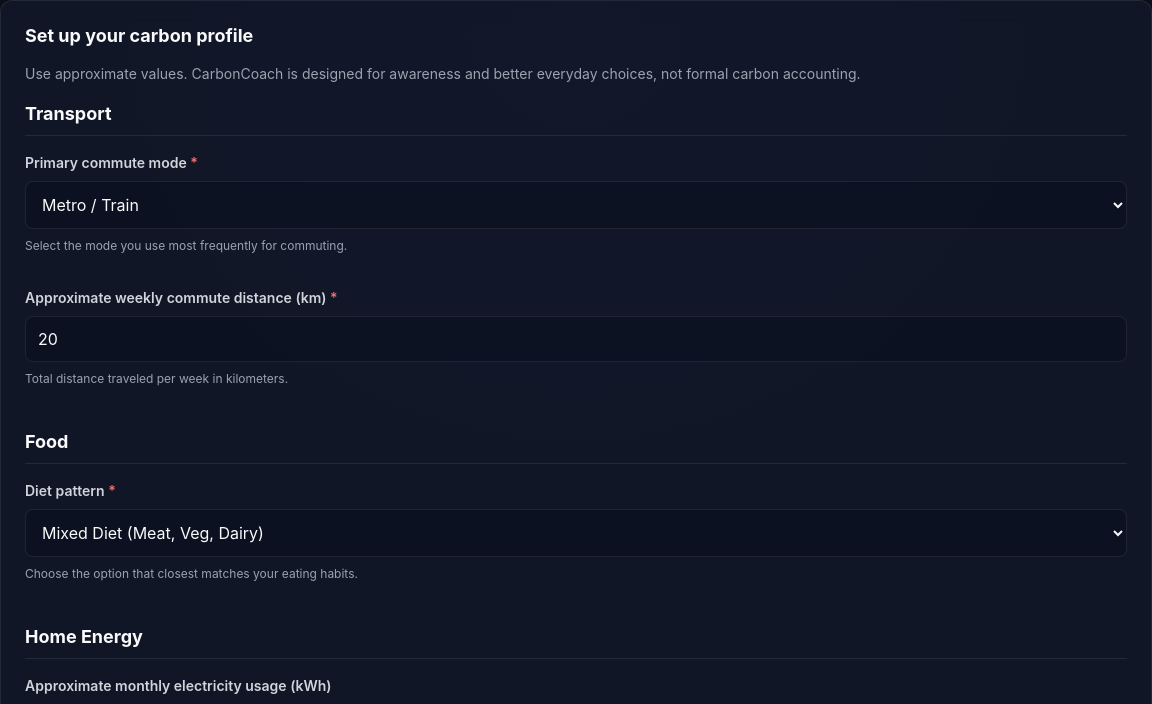
Test: ProfileOnboarding Component › reset button restores default values
Replace the text in the number field labelled "Approximate weekly commute distance (km)" with "150" at coordinates (576, 339), box [25,316,1127,362]
(page scrolled)
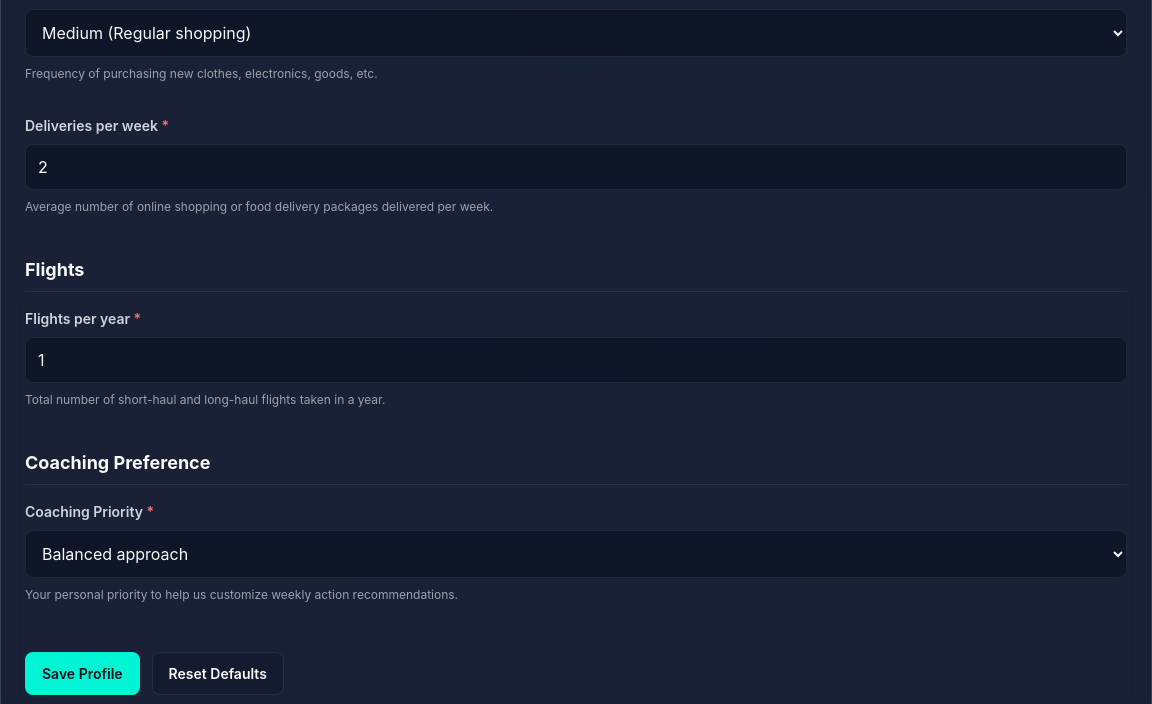
Click the button "Reset Defaults" at coordinates (218, 673), box [152,652,284,695]
(page scrolled)
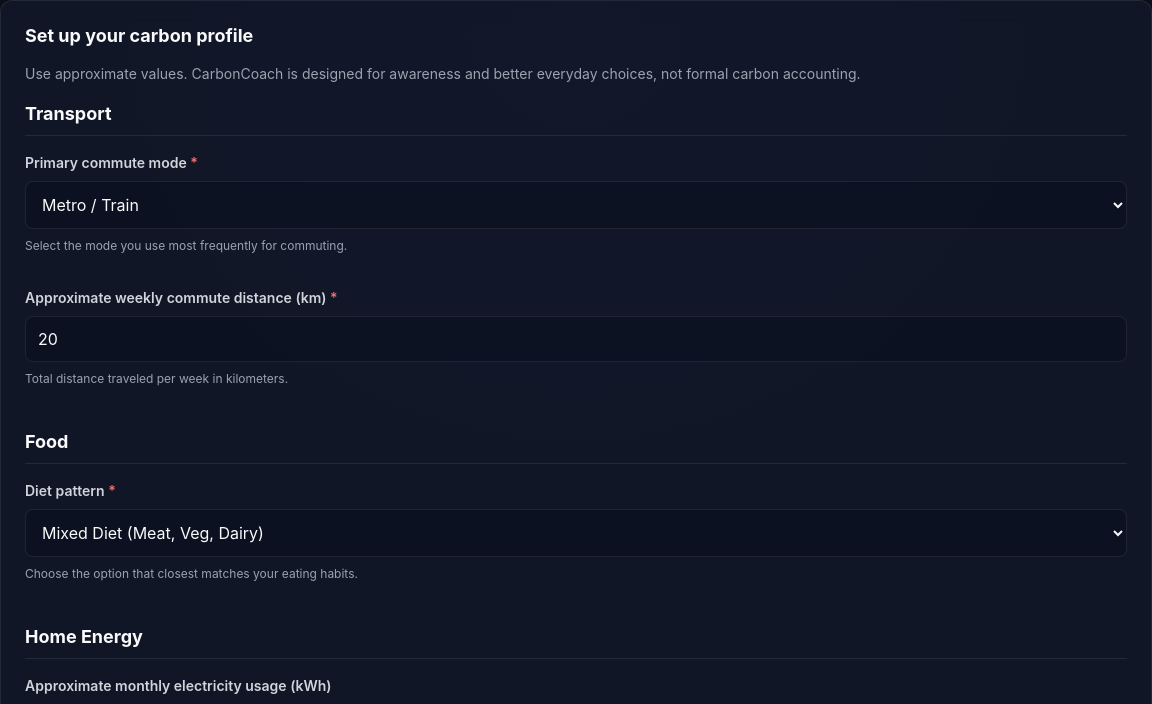
Expected: the number field labelled "Approximate weekly commute distance (km)" holds "20", [25,316,1127,362]
